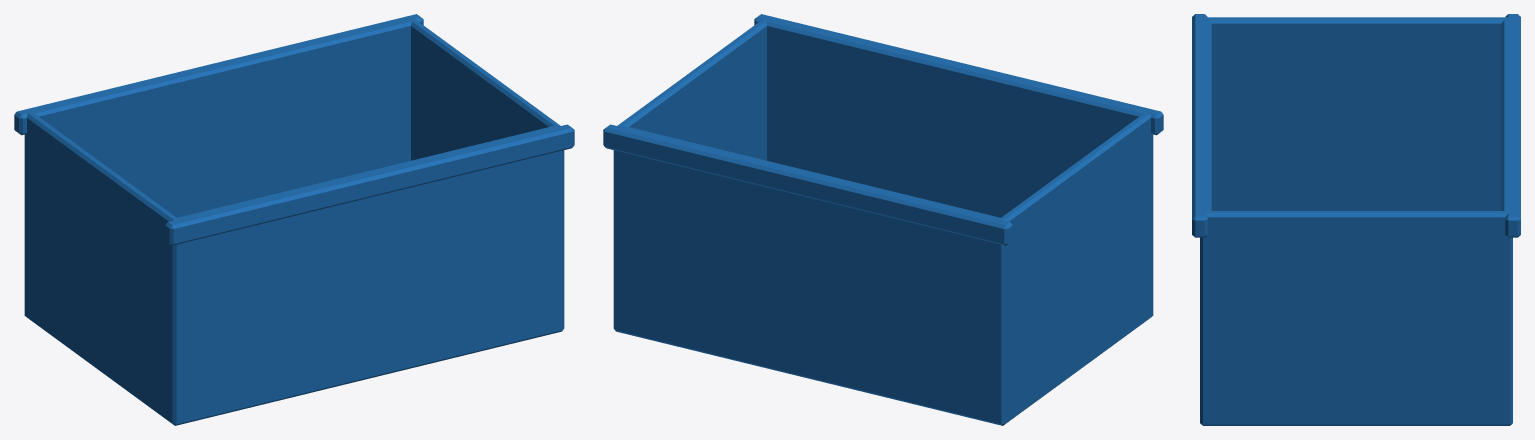
Rendered from stackable_box.glb.
The picture shows the model from 3 angles, left to right: view 1: azimuth 30°, elevation 25°; view 2: azimuth 150°, elevation 25°; view 3: azimuth 270°, elevation 25°; orthographic projection. The views are drawn at different scales.
Parts seen in each view (by area): view 1: Crate; view 2: Crate; view 3: Crate.
Part boxes in pixels (<box>): Crate: <box>14,14,574,425</box>; Crate: <box>603,14,1163,425</box>; Crate: <box>1192,14,1520,425</box>.
Bounding box in the file's own units: 0.62 × 0.3 × 0.42.
